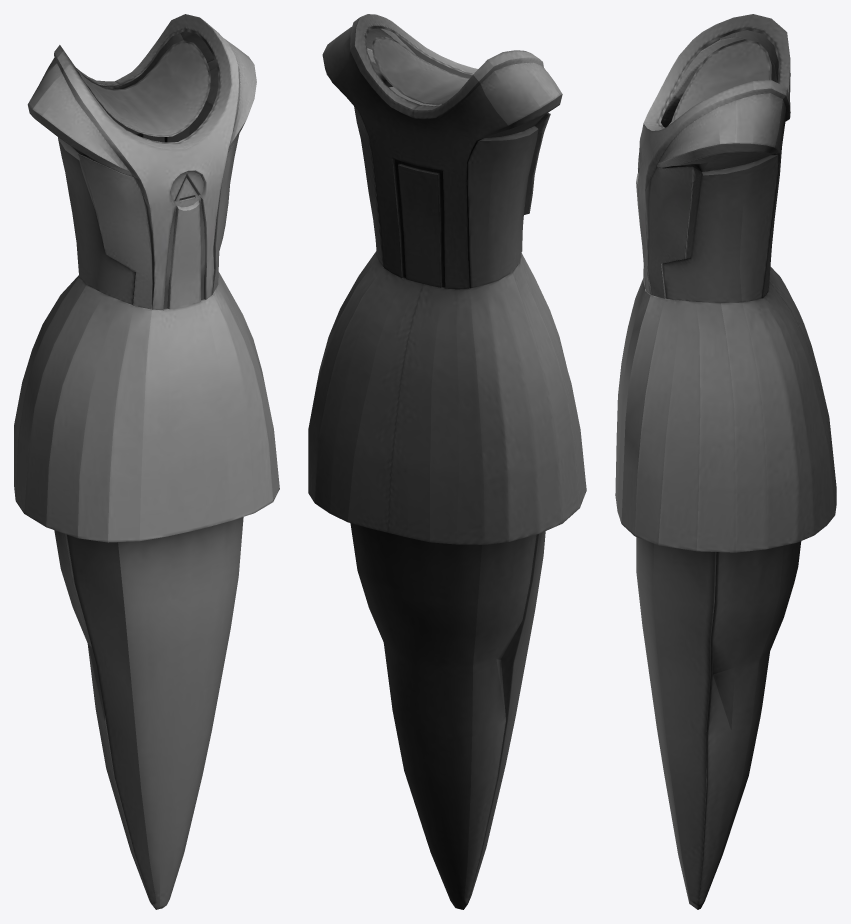
The model's file is body.obj.
The picture shows the model from 3 angles, left to right: view 1: azimuth 30°, elevation 25°; view 2: azimuth 150°, elevation 25°; view 3: azimuth 270°, elevation 25°; orthographic projection. The views are drawn at different scales.
Visible parts, largest first — view 1: body.obj; view 2: body.obj; view 3: body.obj.
Boxes of the visible parts, x1,y1,x2,y2 form: body.obj: [14, 14, 279, 909]; body.obj: [308, 14, 586, 909]; body.obj: [615, 14, 836, 909].
Size of the model in its own units: 0.4105 by 1.44 by 0.3353.
Materials: 1 (1 with a texture image).
